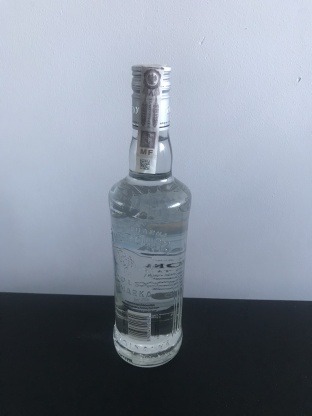nakretka: (126, 57, 173, 133)
